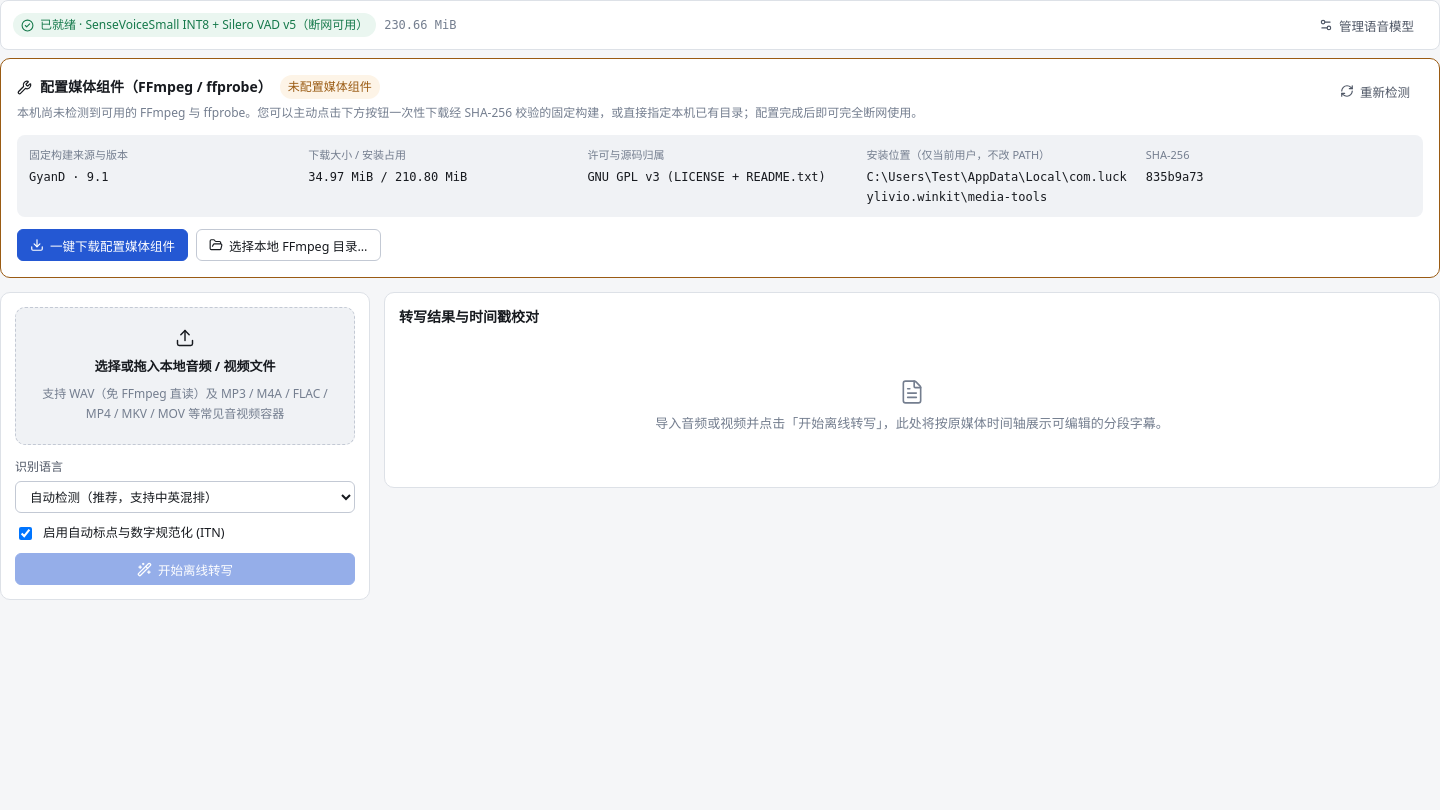
Test: TranscribeMediaWorkspace (T01) › shows explicit 512 MiB WAV FFmpeg dependency prompt and disables Start when FFmpeg is absent
Check: the element with test id "asr-model-compact-bar" is shown, box [0,0,1439,50]
Click the button with test id "t01-dropzone": (185, 376) [15,307,355,445]
(page scrolled)
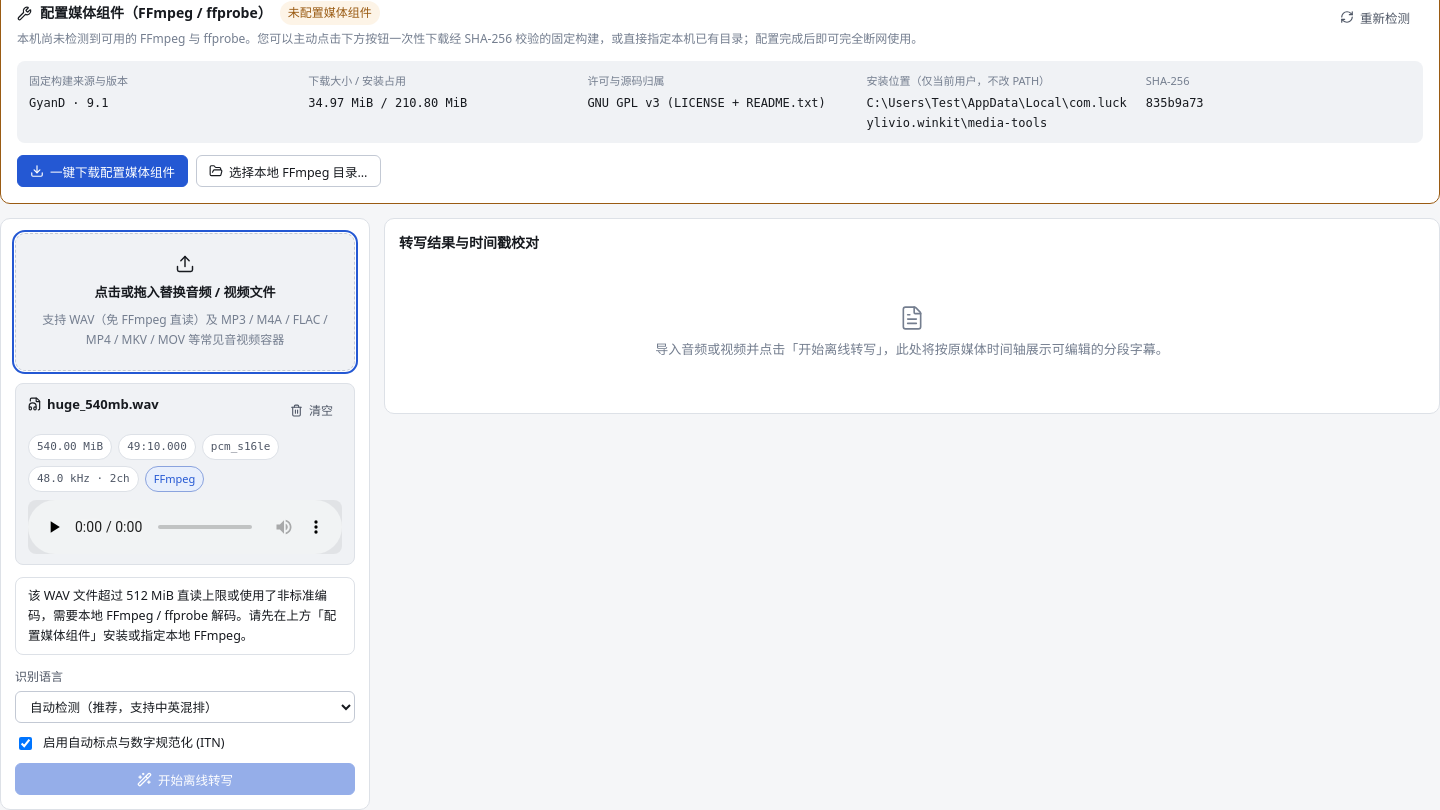
Check: the button with test id "t01-start-btn" is disabled, box [15,763,355,795]
Check: the message with test id "t01-ffmpeg-required-banner" shows "512 MiB", box [28,587,336,644]
